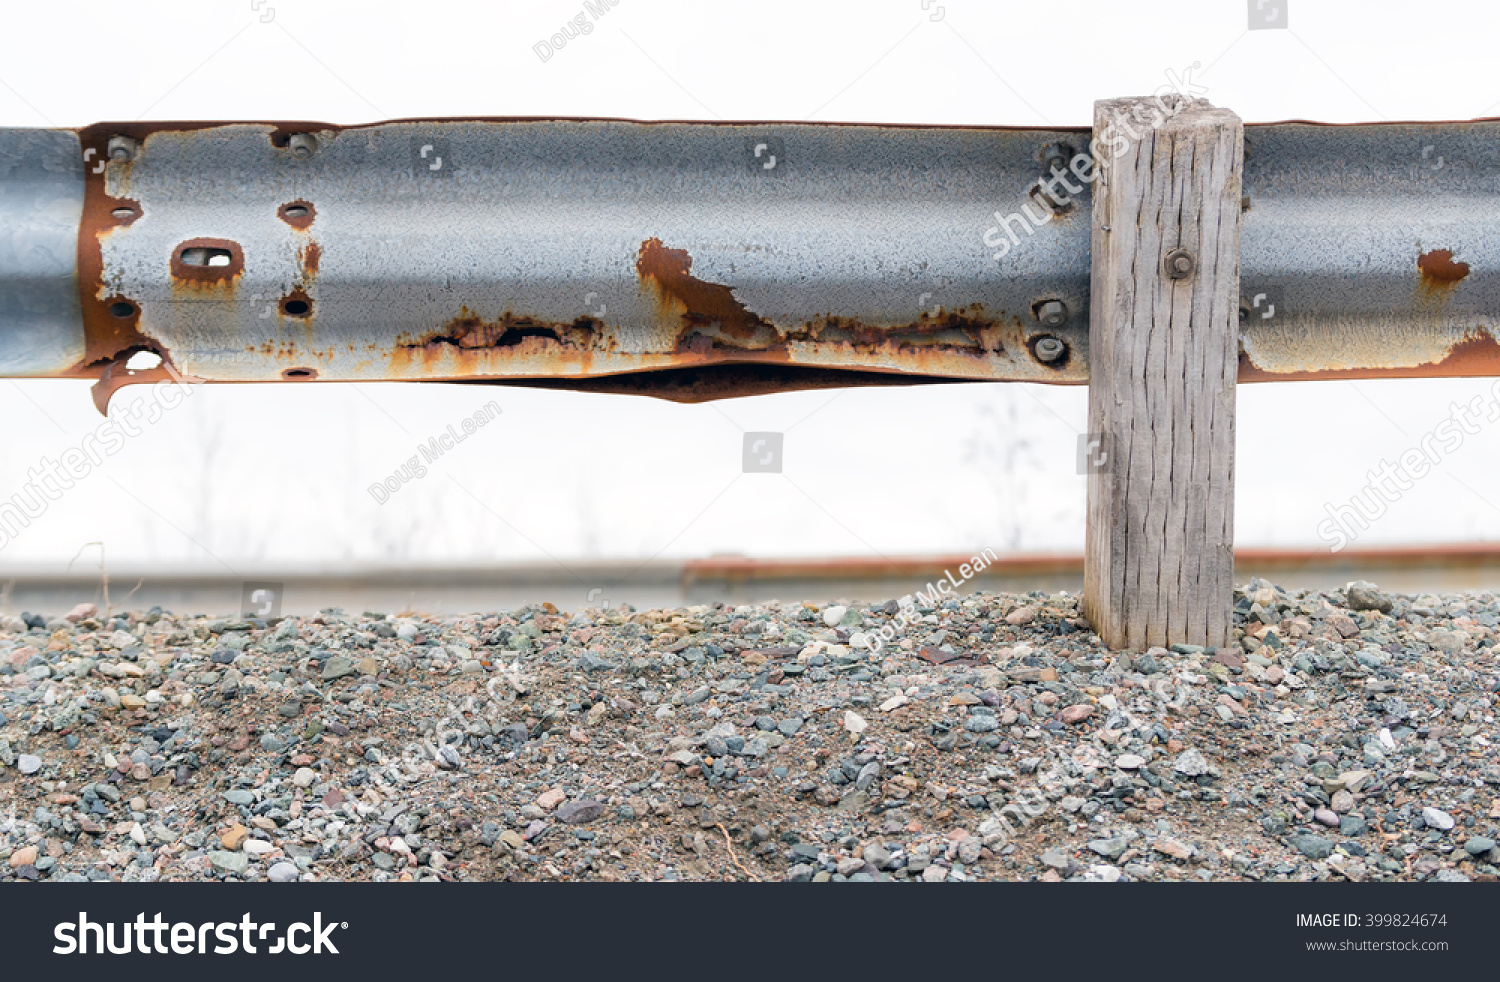damaged: (70, 83, 1397, 422)
